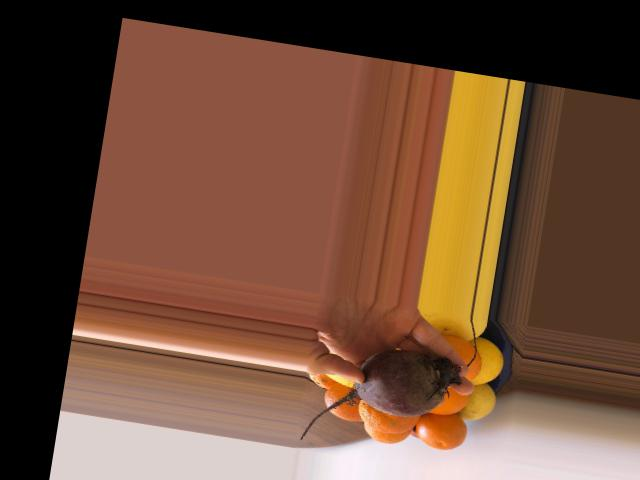beet: (300, 336, 463, 462)
